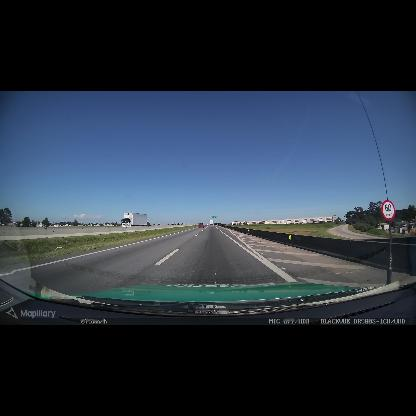R-19: (381, 200, 395, 221)
